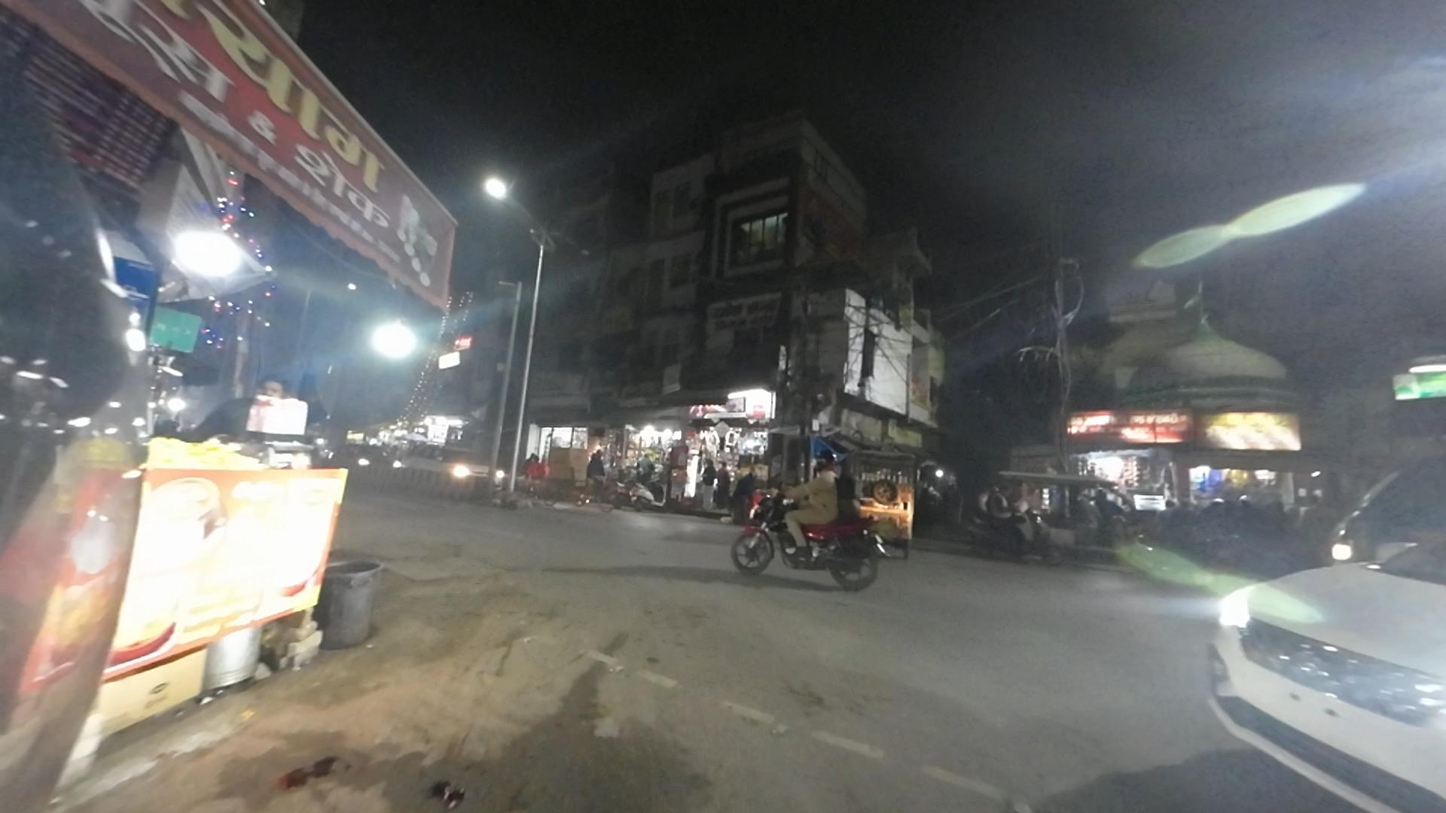streetlight: (551, 229, 594, 260)
